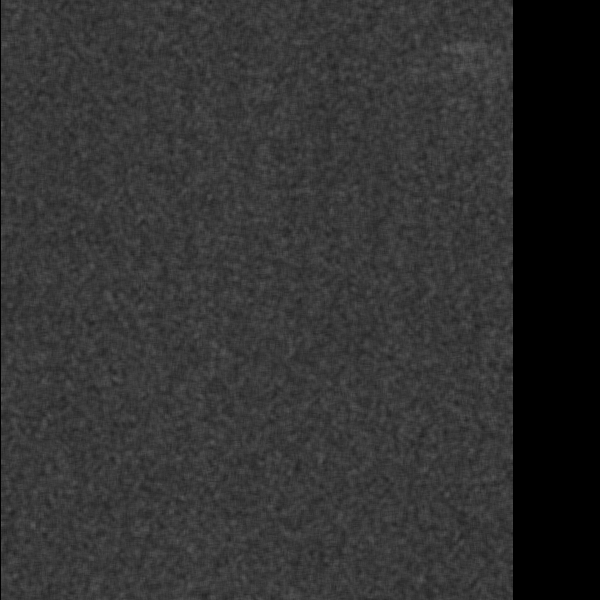spark: (454, 234, 489, 266)
